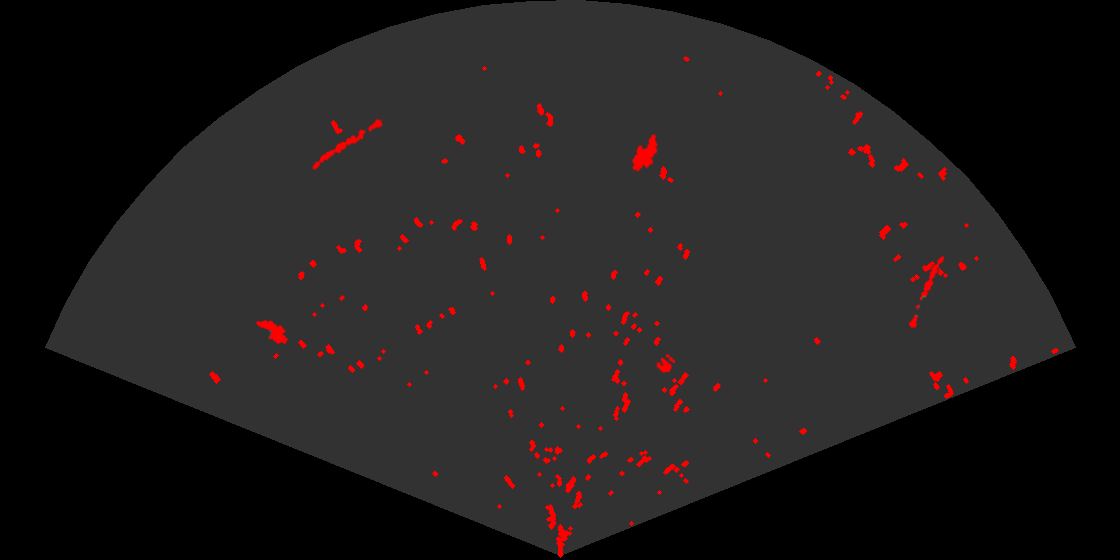AUV: (630, 132, 660, 173), (254, 318, 290, 346)
ball: (655, 352, 677, 375)
chain: (310, 115, 387, 172), (907, 254, 946, 331)
